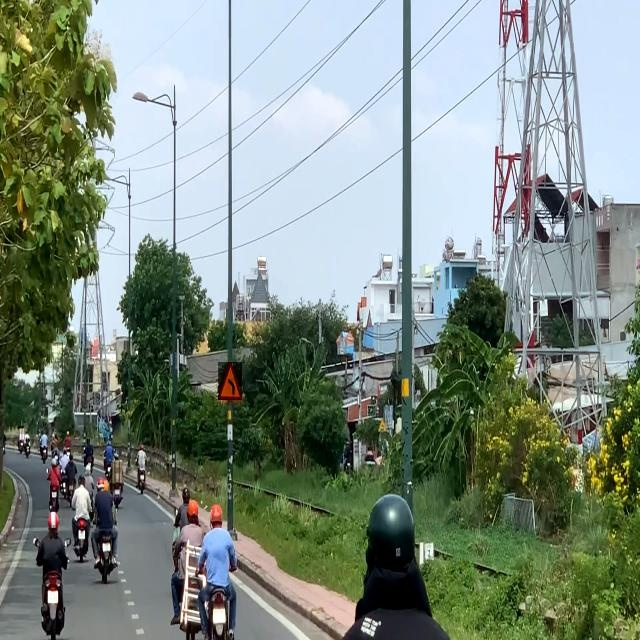bien_nguy_hiem: (218, 362, 242, 400)
